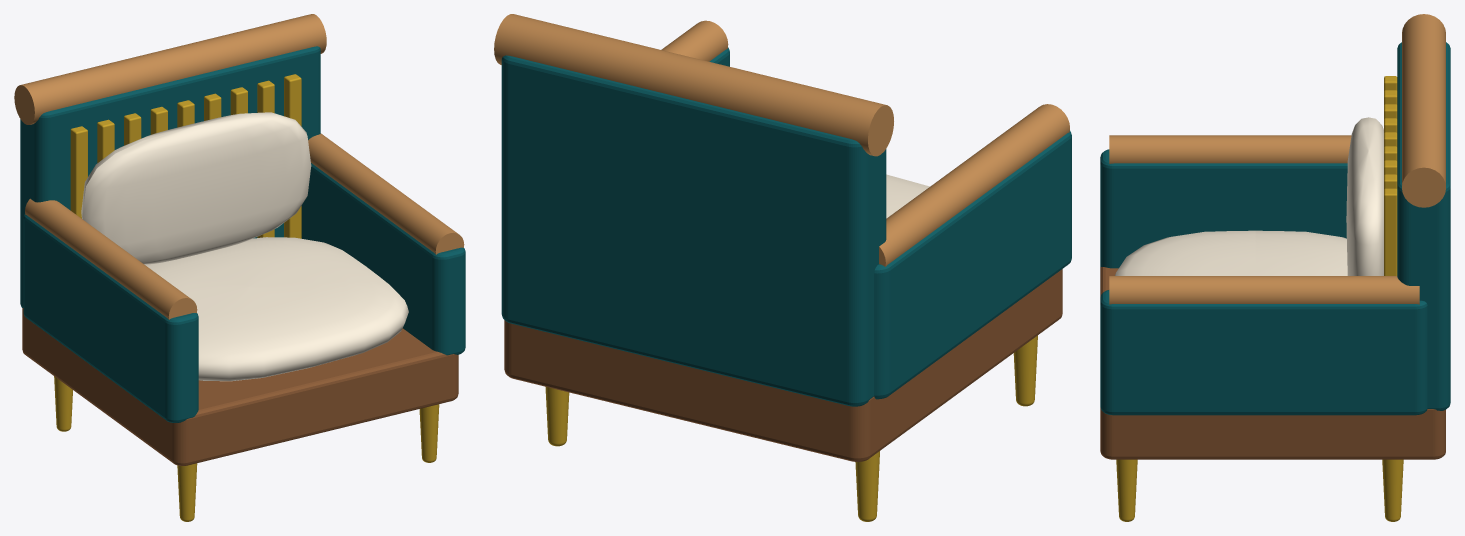
File: lobby-armchair.glb
3 views of the same model, side by side, from view 1: azimuth 30°, elevation 25°; view 2: azimuth 150°, elevation 25°; view 3: azimuth 270°, elevation 25° (orthographic). The views are drawn at different scales.
Parts seen in each view (by area): view 1: back.cushion, frame, seat.cushion, arm.left, back.panel, arm.right, back.cap, arm.left.cap, arm.right.cap, back.flute.0, back.flute.8, leg.l.f (+4 smaller); view 2: back.panel, frame, arm.left, back.cap, arm.left.cap, arm.right.cap, leg.l.b, leg.l.f, leg.r.b, seat.cushion; view 3: arm.right, arm.left, frame, seat.cushion, back.panel, arm.right.cap, back.cap, arm.left.cap, back.cushion, back.flute.8, leg.r.b, leg.r.f.
Boxes of the visible parts, left/top/right/bottom form: back.cushion: left=81, top=112, right=311, bottom=264; frame: left=22, top=308, right=458, bottom=465; seat.cushion: left=145, top=237, right=408, bottom=381; arm.left: left=23, top=213, right=198, bottom=422; back.panel: left=20, top=46, right=320, bottom=307; arm.right: left=301, top=163, right=465, bottom=355; back.cap: left=14, top=14, right=326, bottom=124; arm.left.cap: left=25, top=198, right=197, bottom=319; arm.right.cap: left=308, top=133, right=464, bottom=254; back.flute.0: left=70, top=126, right=87, bottom=218; back.flute.8: left=284, top=74, right=301, bottom=238; leg.l.f: left=177, top=463, right=197, bottom=521; back.panel: left=501, top=55, right=886, bottom=406; frame: left=504, top=269, right=1062, bottom=461; arm.left: left=874, top=131, right=1071, bottom=399; back.cap: left=494, top=14, right=893, bottom=156; arm.left.cap: left=879, top=104, right=1069, bottom=266; arm.right.cap: left=661, top=20, right=728, bottom=61; leg.l.b: left=855, top=451, right=879, bottom=521; leg.l.f: left=1013, top=335, right=1037, bottom=406; leg.r.b: left=545, top=386, right=569, bottom=446; seat.cushion: left=886, top=174, right=929, bottom=218; arm.right: left=1100, top=290, right=1427, bottom=415; arm.left: left=1100, top=149, right=1347, bottom=268; frame: left=1100, top=267, right=1445, bottom=459; seat.cushion: left=1115, top=230, right=1347, bottom=275; back.panel: left=1397, top=42, right=1450, bottom=410; arm.right.cap: left=1109, top=276, right=1419, bottom=304; back.cap: left=1402, top=14, right=1445, bottom=207; arm.left.cap: left=1109, top=135, right=1351, bottom=163; back.cushion: left=1346, top=117, right=1383, bottom=275; back.flute.8: left=1384, top=188, right=1397, bottom=275; leg.r.b: left=1382, top=459, right=1403, bottom=521; leg.r.f: left=1116, top=459, right=1137, bottom=521.
Bounding box in the file's own units: 0.84 × 0.91 × 0.79.
